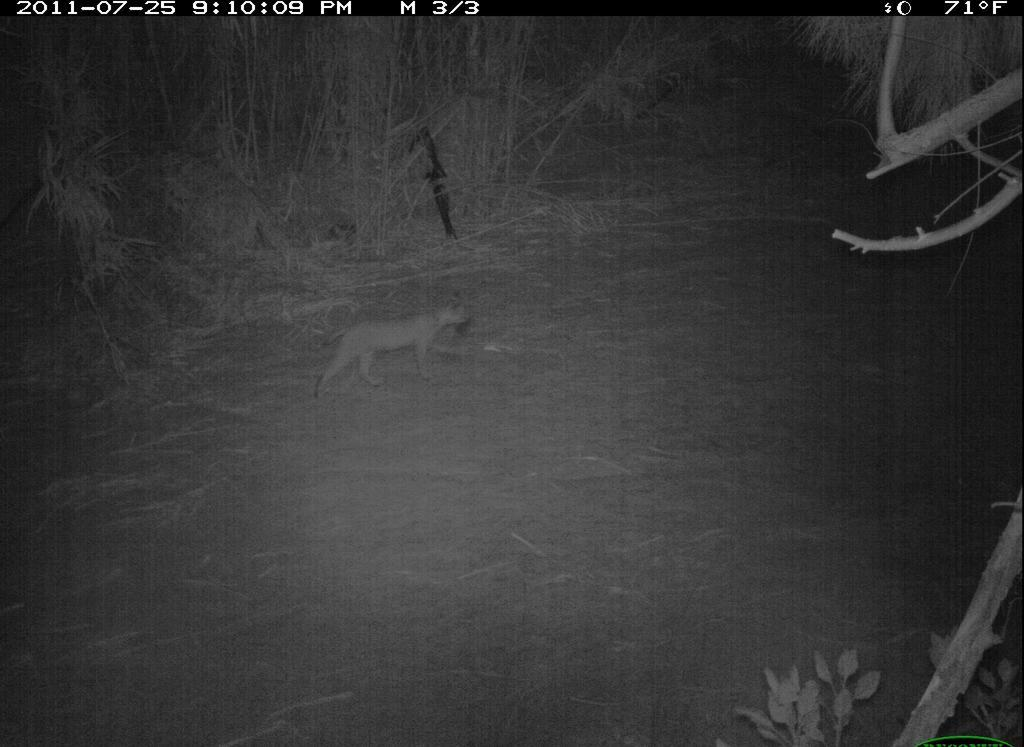bobcat: (300, 286, 495, 409)
